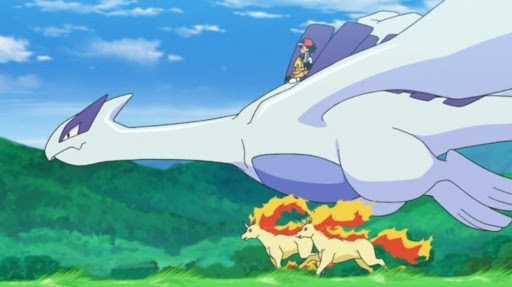lugia: (44, 94, 141, 168)
